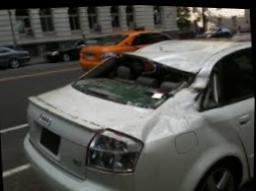Fender: (109, 77, 214, 141)
Windshield: (74, 52, 192, 105)
